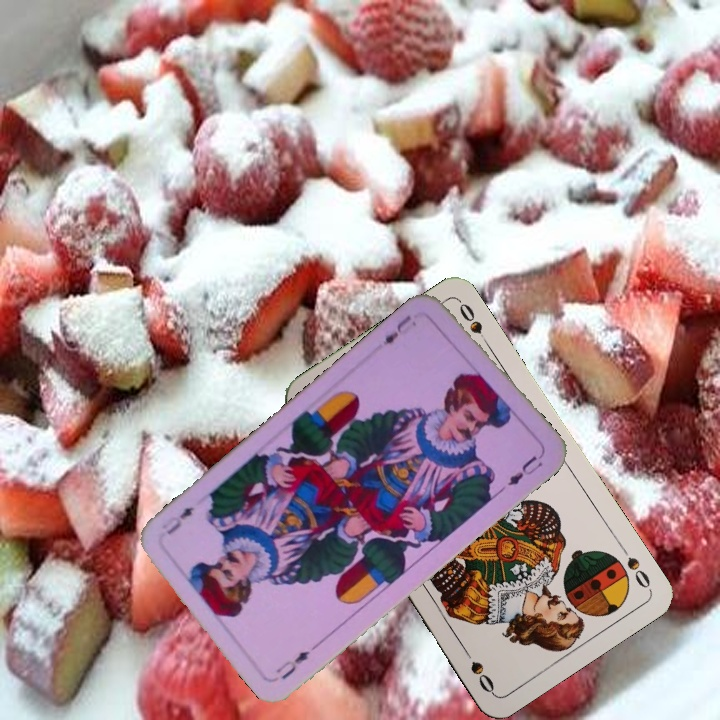EU: (272, 638, 322, 682), (378, 310, 415, 348)
SO: (622, 553, 653, 592)
